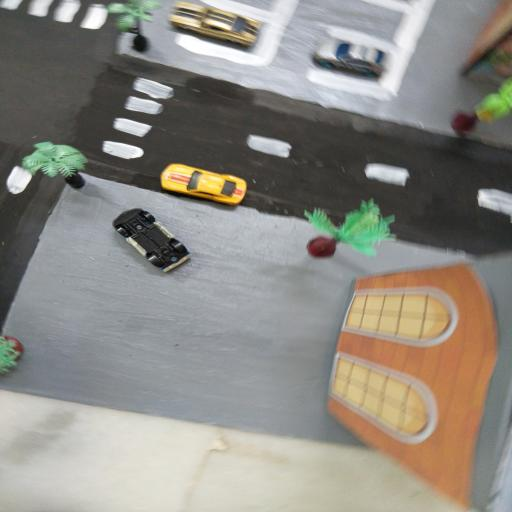car crash: (102, 208, 201, 282)
